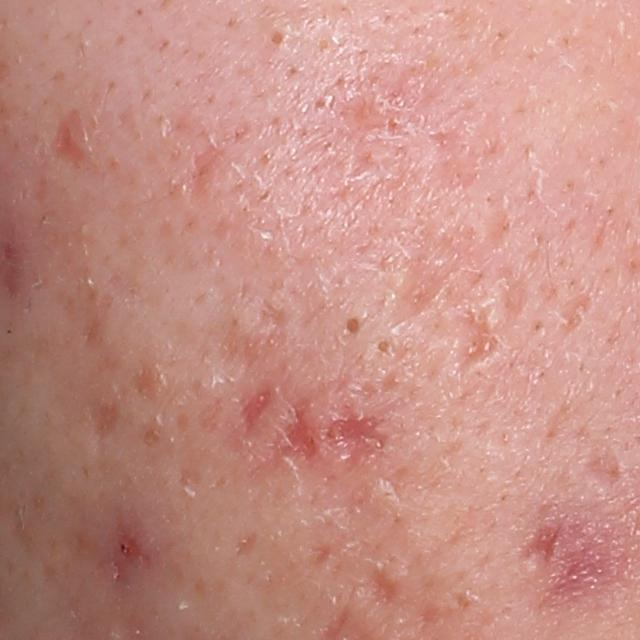atrophic_scar: (390, 209, 510, 330), (210, 300, 297, 379), (453, 307, 511, 381), (178, 140, 235, 208), (321, 411, 395, 454), (271, 400, 318, 466), (577, 436, 623, 502), (340, 91, 398, 130), (520, 515, 566, 564), (237, 386, 272, 434), (91, 395, 122, 441), (130, 357, 161, 400), (174, 451, 205, 490), (230, 527, 257, 556)
comedo: (374, 334, 395, 358), (342, 317, 363, 339)
